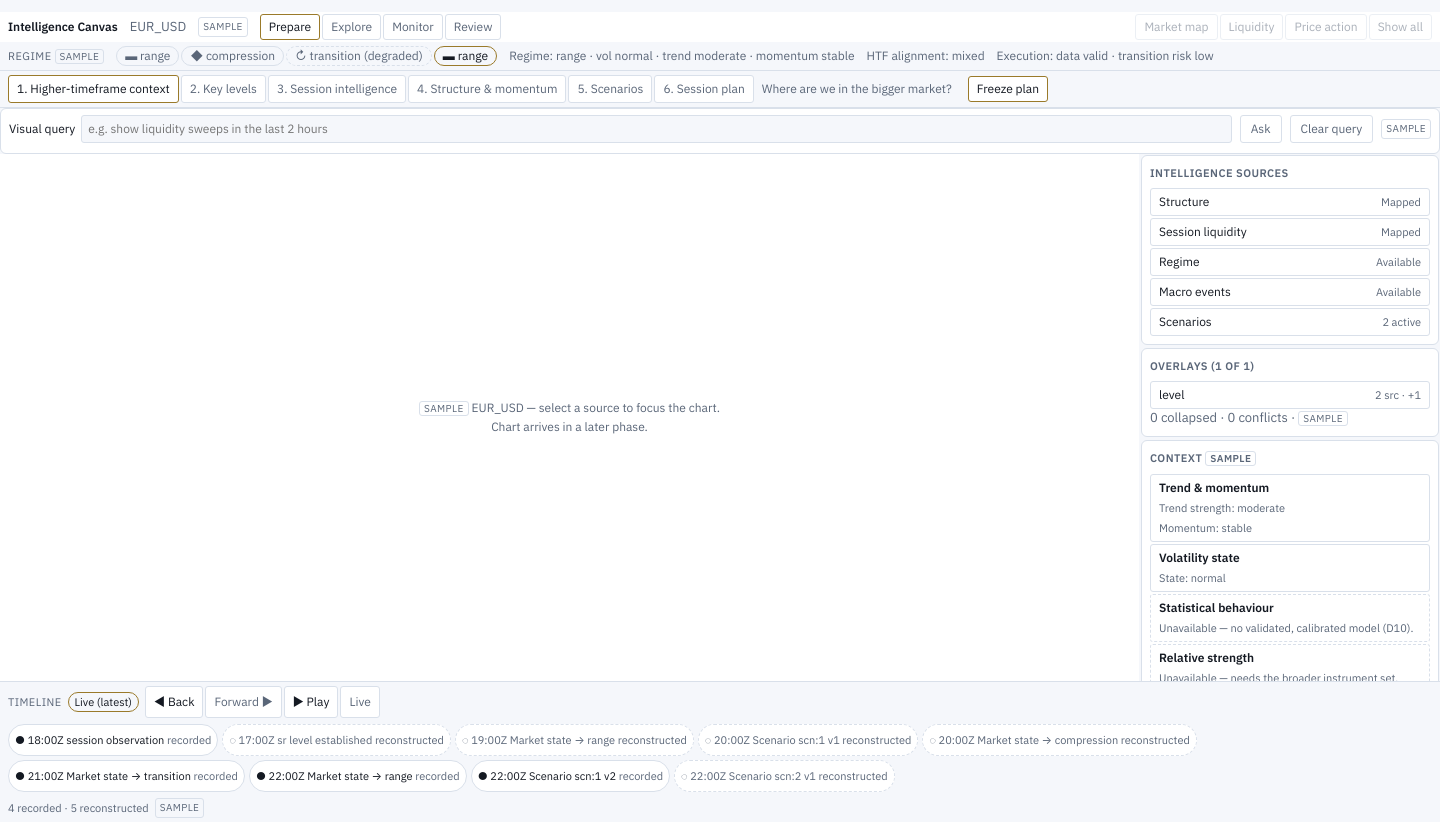
Scenario: F1 Intelligence Canvas shell › Prepare mode shows the six-step rail and freezes an immutable plan
Step 1. Click the button "level 2 src · +1" → [1172, 394], box [1150, 381, 1430, 409]
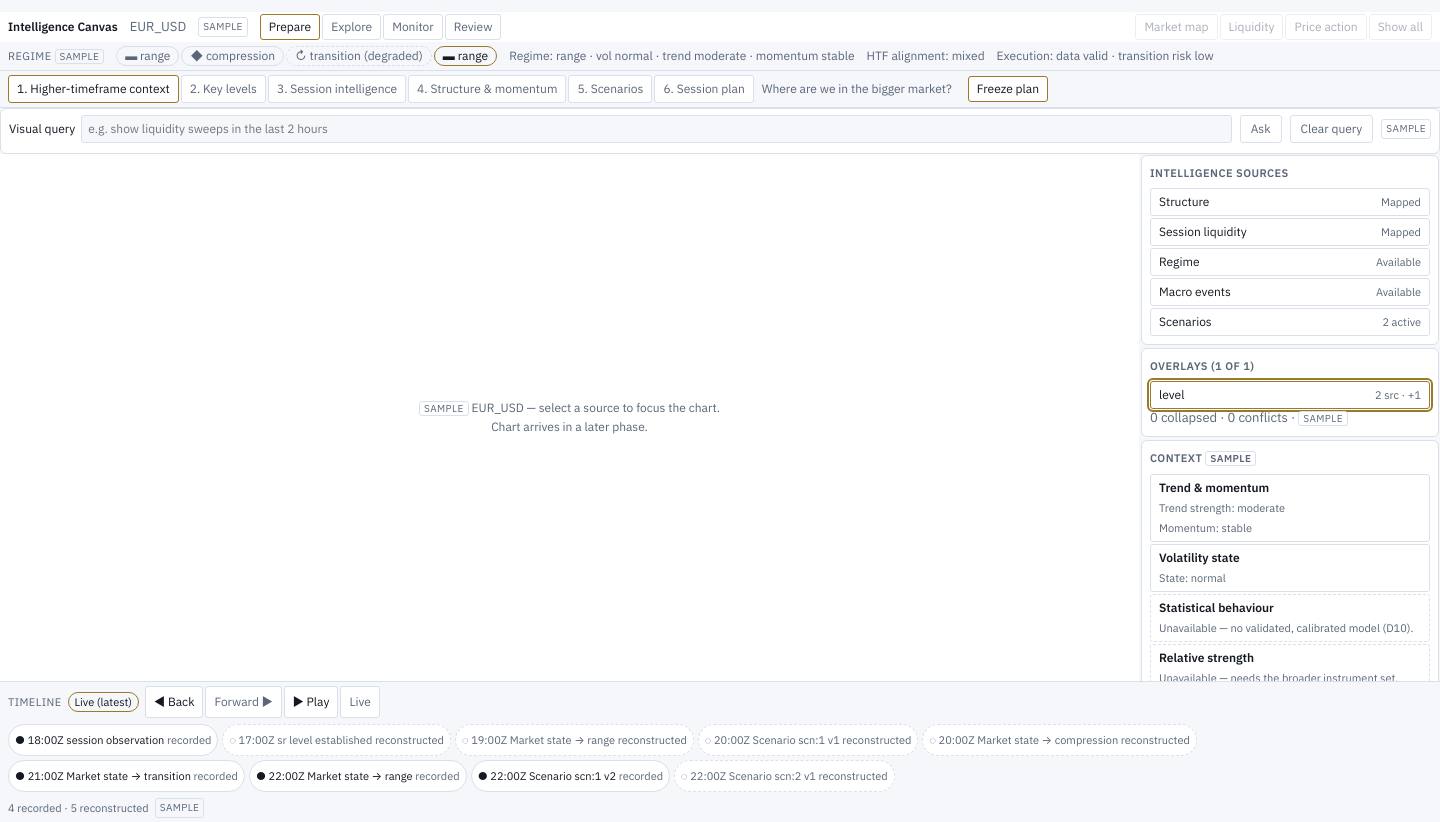
Step 2. Click the button "Freeze plan" → [1008, 89], box [968, 76, 1048, 102]
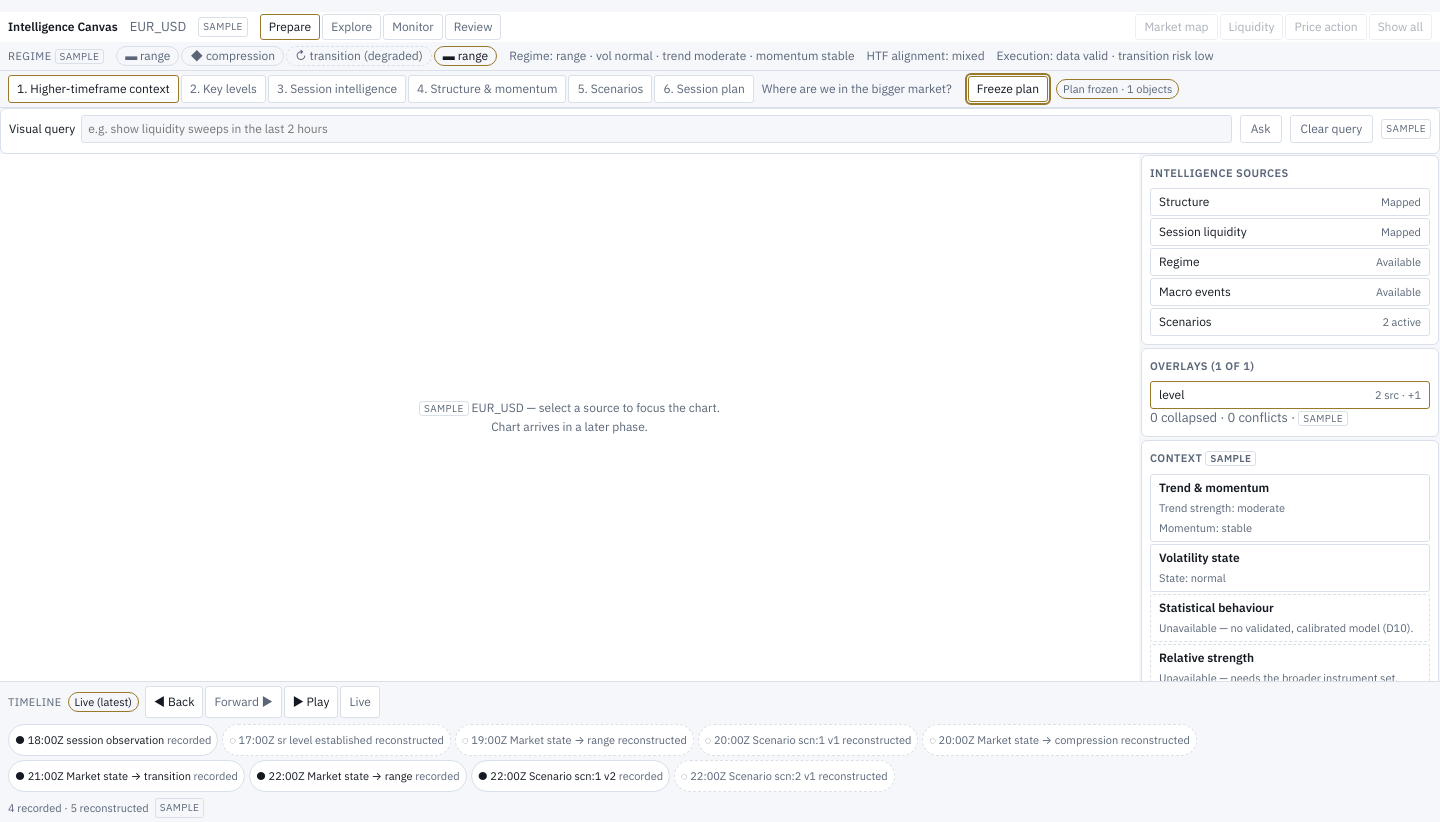
Expected: the text "Plan frozen · 1 objects" is shown, [1056, 79, 1179, 99]
